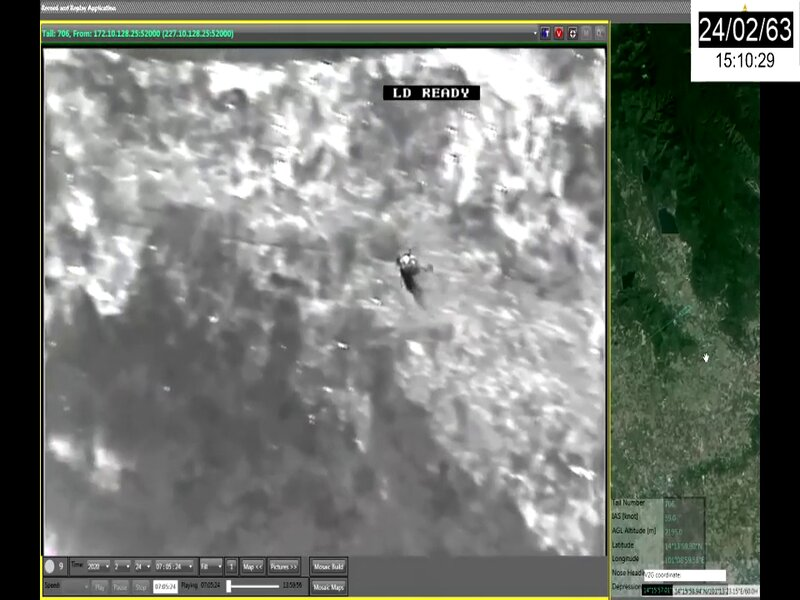Fire: (482, 53, 604, 275)
